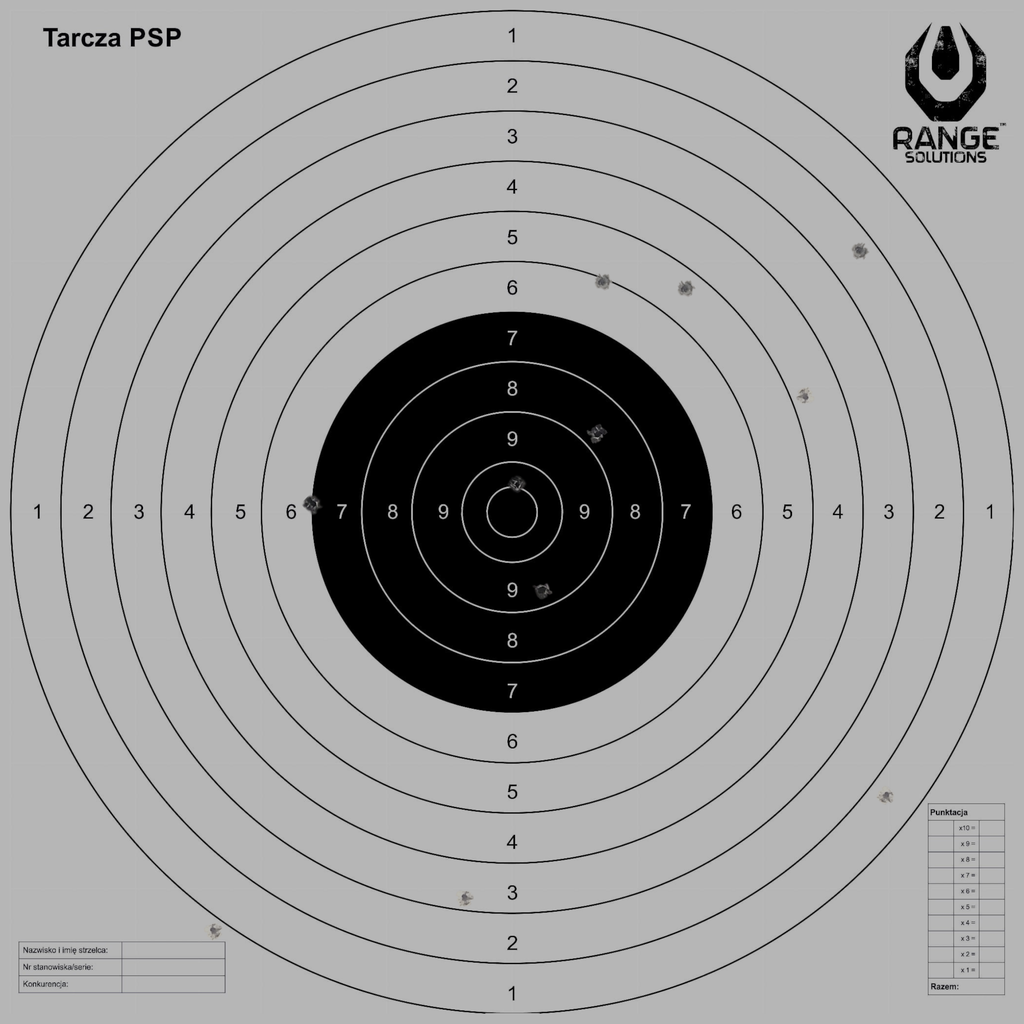0 punktow: (204, 921, 223, 940)
1 punkt: (877, 786, 896, 805)
10 punktow: (508, 476, 526, 494)
2 punkty: (850, 241, 869, 260)
3 punkty: (456, 888, 474, 907)
4 punkty: (796, 387, 814, 406)
5 punktow: (676, 280, 694, 298)
6 punktow: (593, 273, 612, 291)
7 punktow: (304, 495, 323, 513)
8 punktow: (589, 425, 607, 443)
9 punktow: (533, 581, 552, 599)
